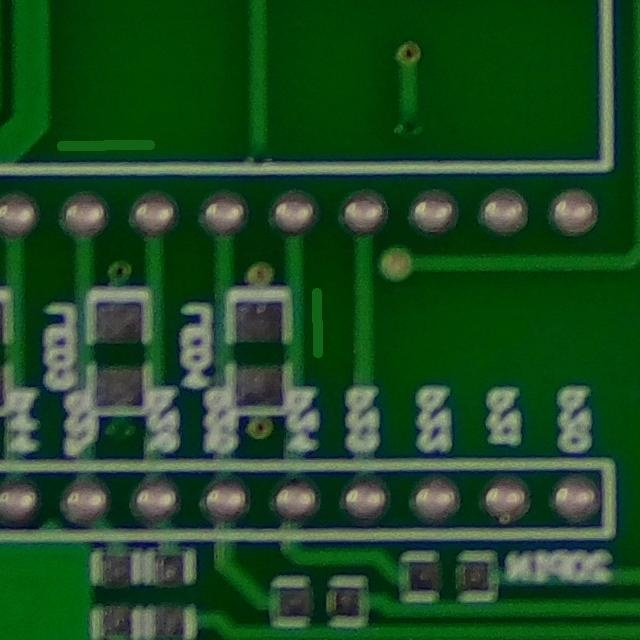spurious_copper: (293, 270, 347, 370)
